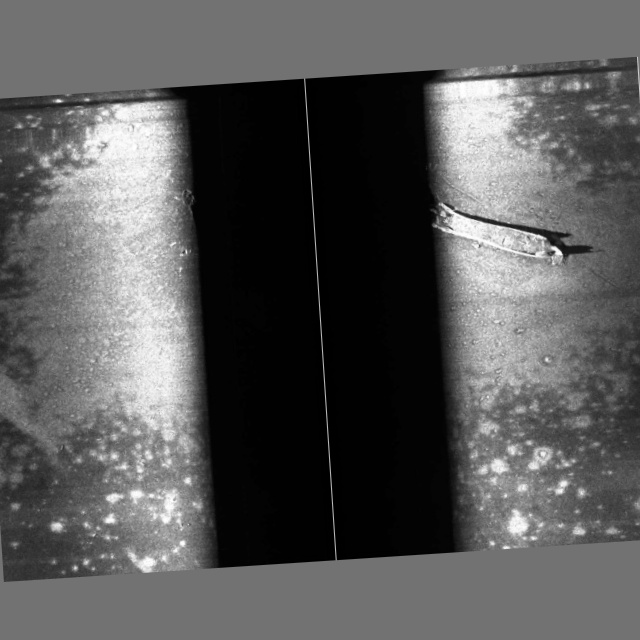Shipwreck: (164, 145, 565, 291)
